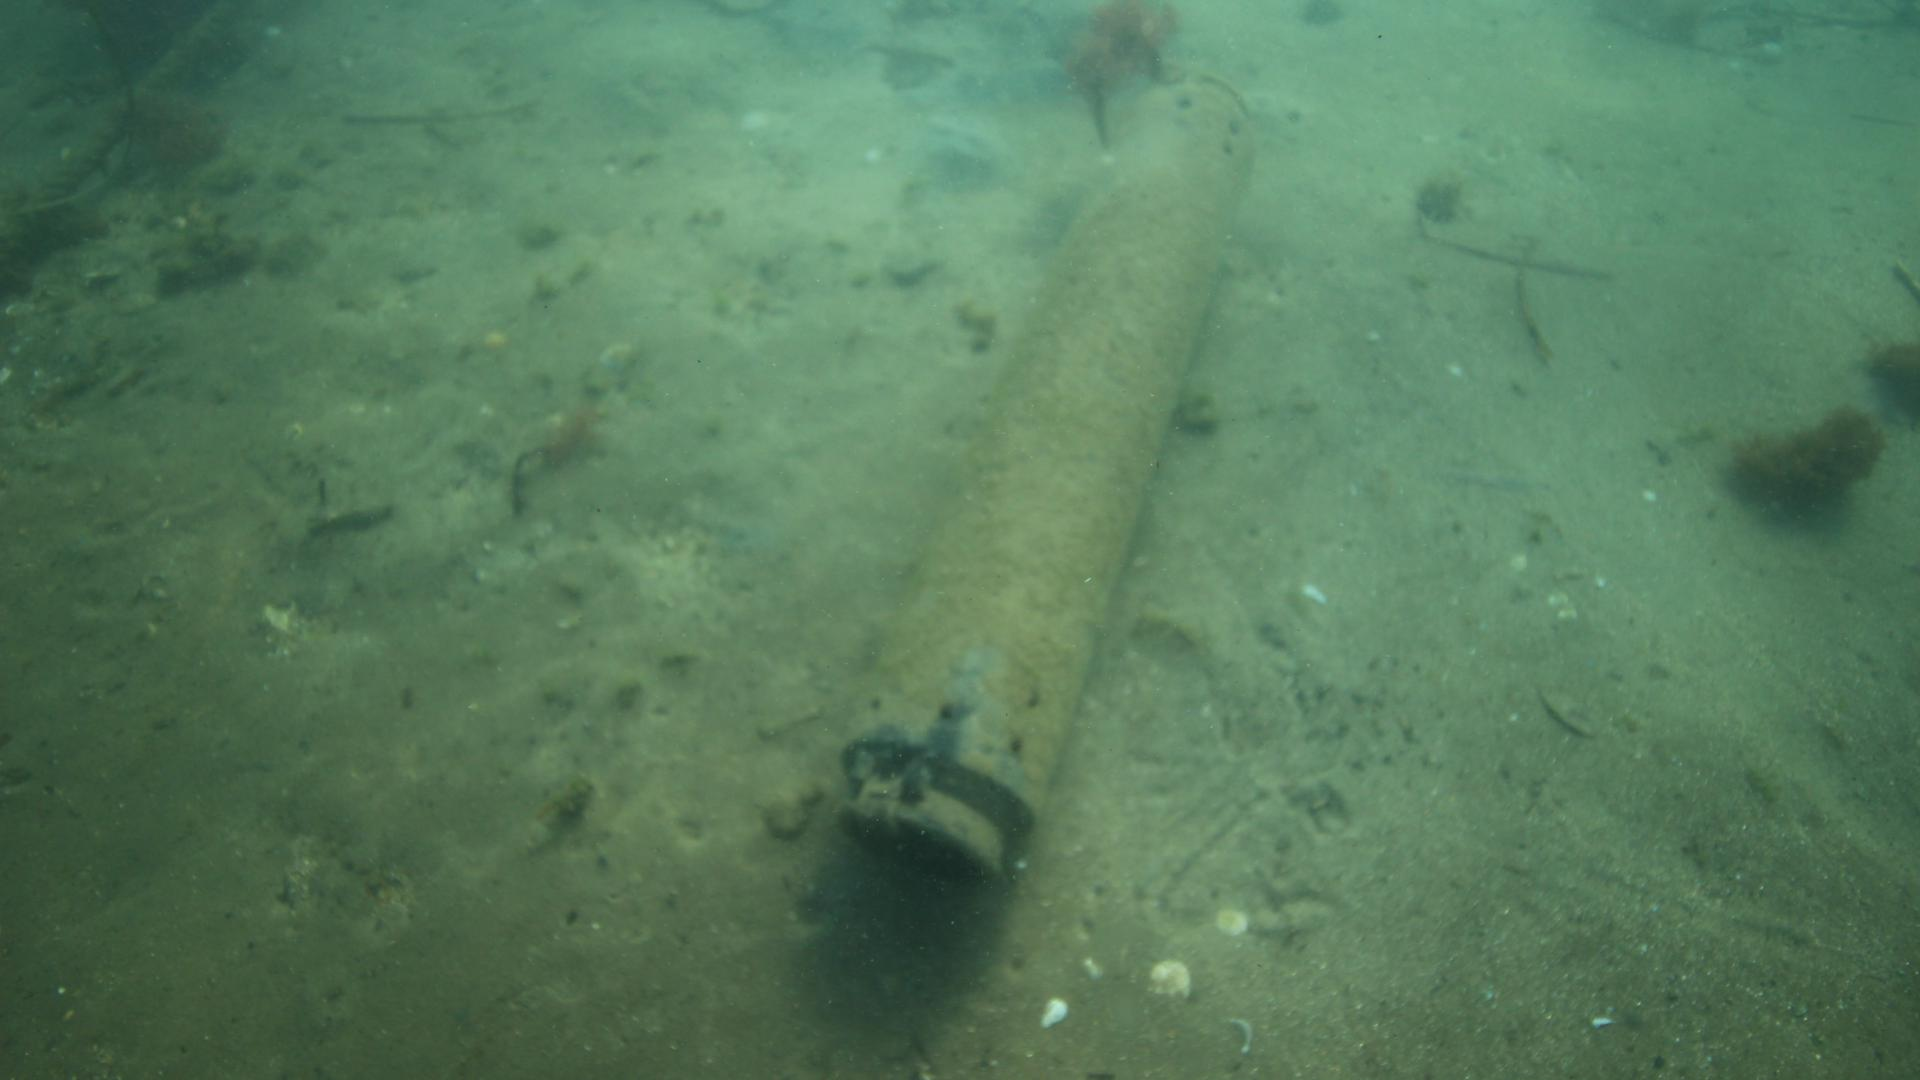eel fish trap: (836, 69, 1255, 880)
